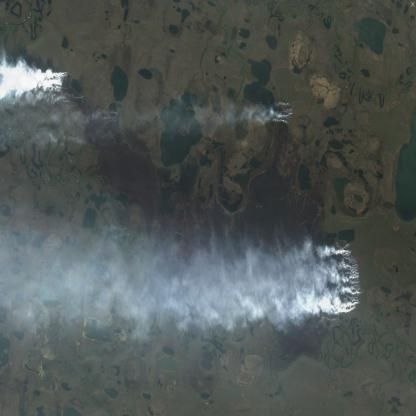fire: (334, 236, 367, 314), (50, 64, 78, 100), (264, 99, 297, 125)
